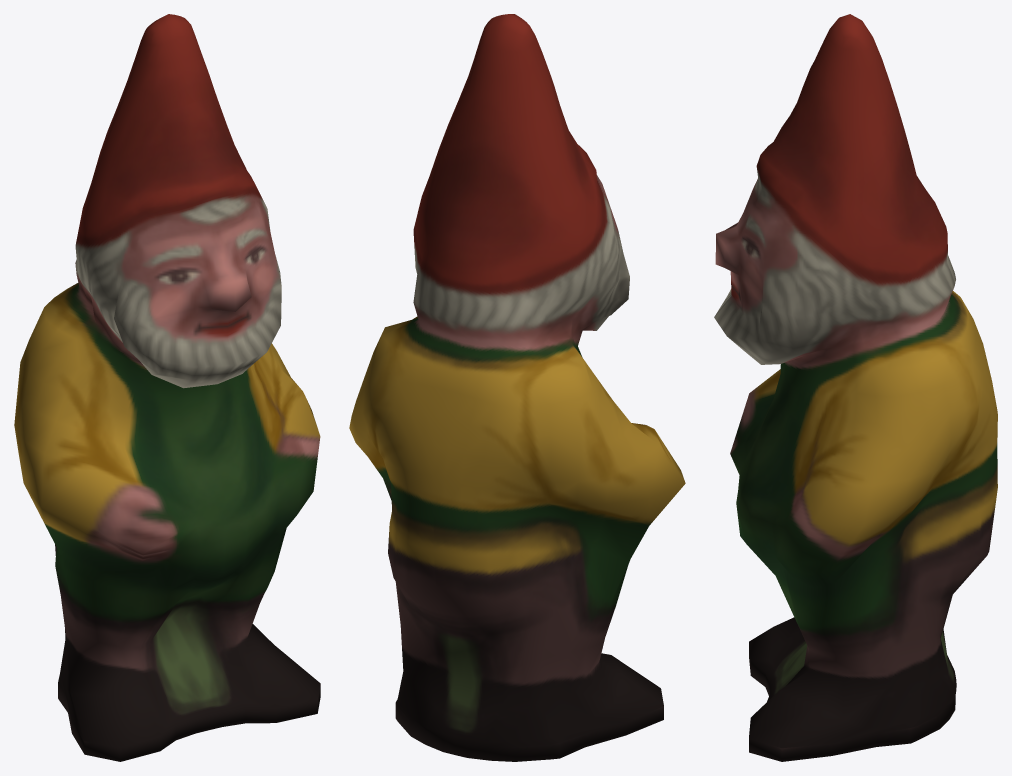
The model's file is gartenzwerg---gardengnome-515973.glb.
3 views of the same model, side by side, from view 1: azimuth 30°, elevation 25°; view 2: azimuth 150°, elevation 25°; view 3: azimuth 270°, elevation 25° (orthographic). The views are drawn at different scales.
Parts seen in each view (by area): view 1: PropMesh; view 2: PropMesh; view 3: PropMesh.
Part boxes in pixels (<box>): PropMesh: <box>14,14,320,761</box>; PropMesh: <box>349,14,685,761</box>; PropMesh: <box>714,14,997,761</box>.
Size of the model in its own units: 0.1827 by 0.4 by 0.1493.
1 material, 1 textured.
